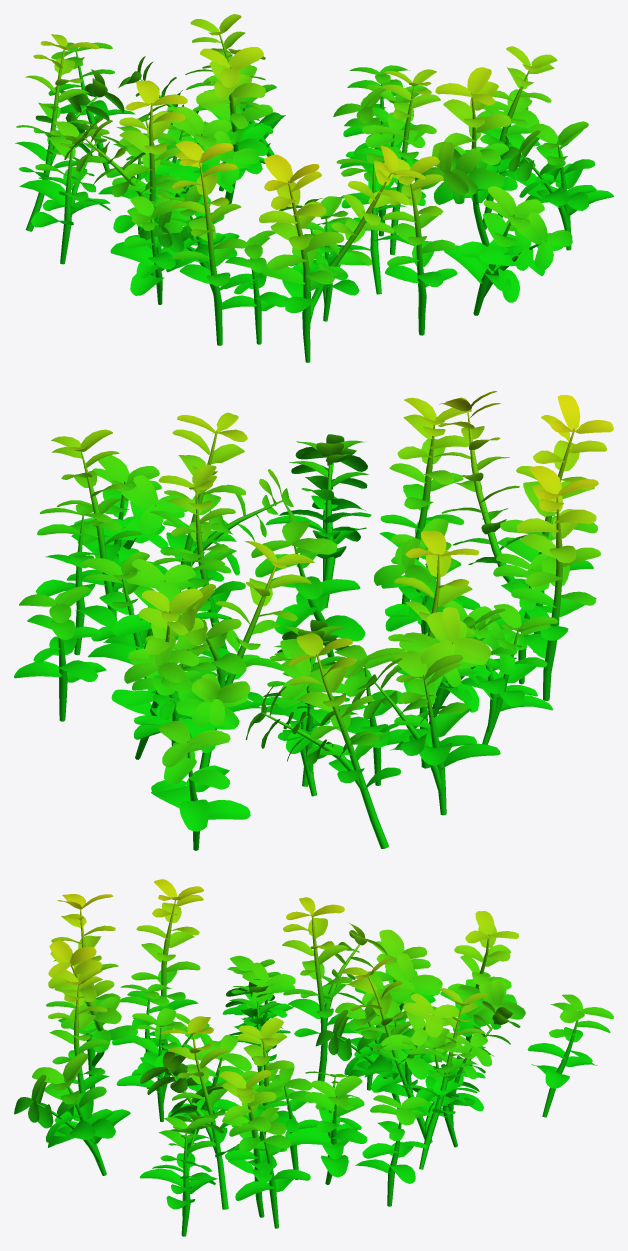
The model's file is Lingonberry_LOD0_Var15.fbx.
3 renders of one model, top to bottom at view 1: azimuth 30°, elevation 25°; view 2: azimuth 150°, elevation 25°; view 3: azimuth 270°, elevation 25°, orthographic. The views are drawn at different scales.
Parts seen in each view (by area): view 1: _x6jy_Var15_LOD0; view 2: _x6jy_Var15_LOD0; view 3: _x6jy_Var15_LOD0.
Part boxes in pixels (<box>): _x6jy_Var15_LOD0: <box>15,14,613,362</box>; _x6jy_Var15_LOD0: <box>14,391,613,850</box>; _x6jy_Var15_LOD0: <box>14,879,613,1236</box>.
Bounding box in the file's own units: 34.79 × 14.8 × 41.61.
